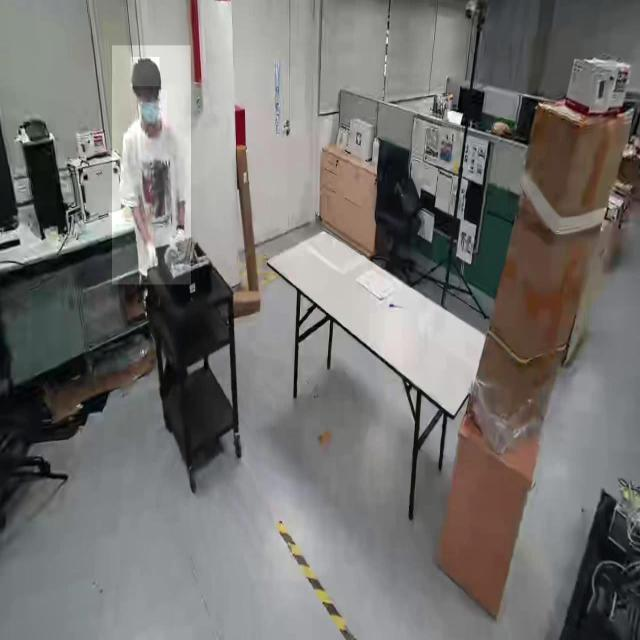face_mask: (135, 90, 167, 124)
hand_glove: (144, 235, 162, 278)
head_nohelmet: (130, 57, 160, 87)
person: (112, 46, 192, 286)
